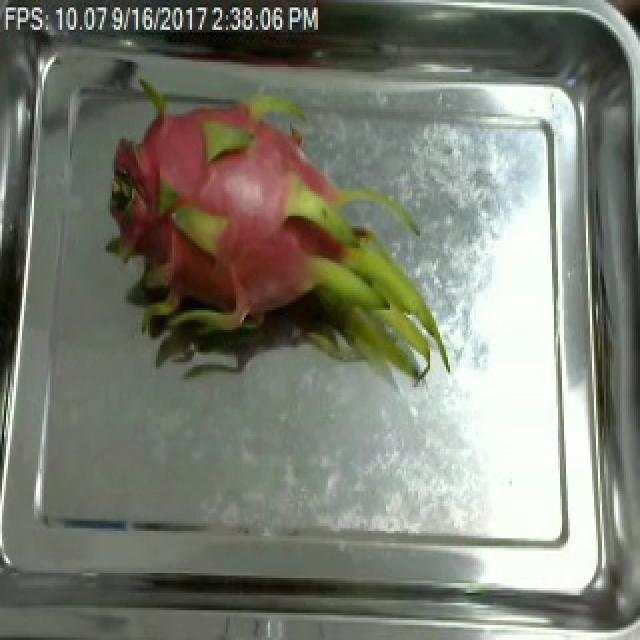fruit: (76, 47, 454, 409)
